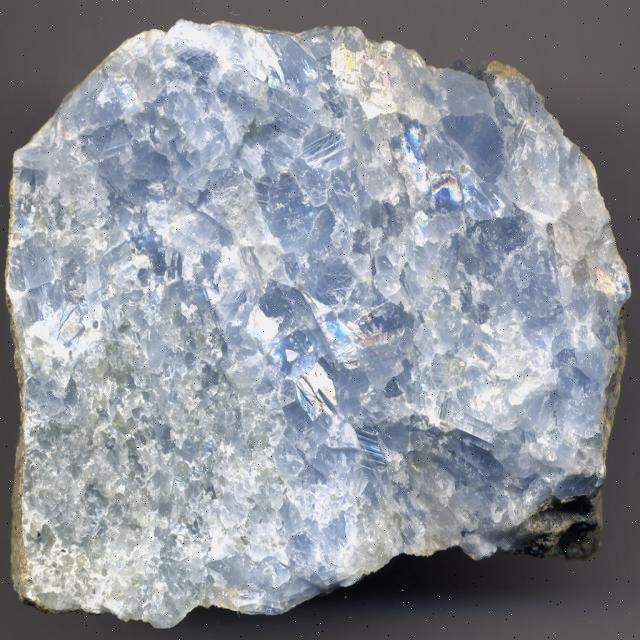Metamorphic: (2, 4, 632, 628)
